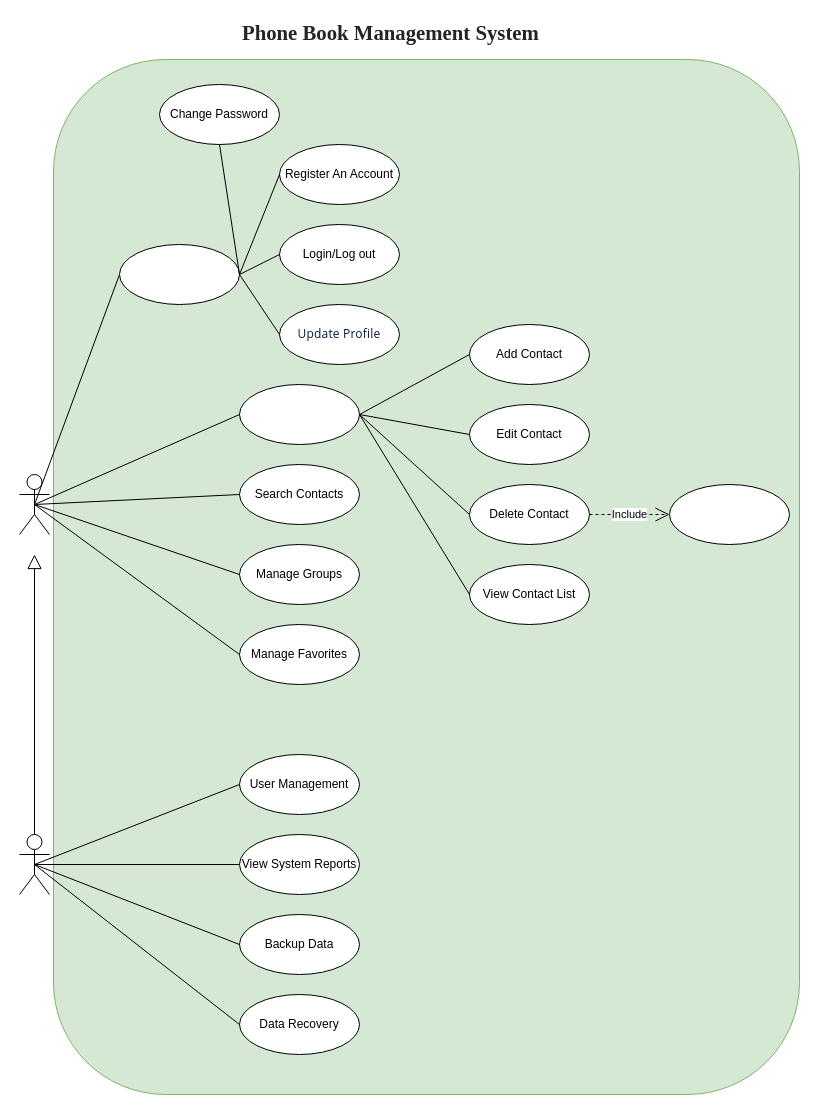
Image size: 817x1112. Some labels were removed from this diagram. The shapes that lost their labels are listed below. From the top down, each one's centre as x and y in pixels, then its label:
(x=179, y=274): Manage User Account
(x=299, y=414): Contacts Management
(x=34, y=504): User
(x=729, y=514): Confirm
(x=34, y=864): Admin
